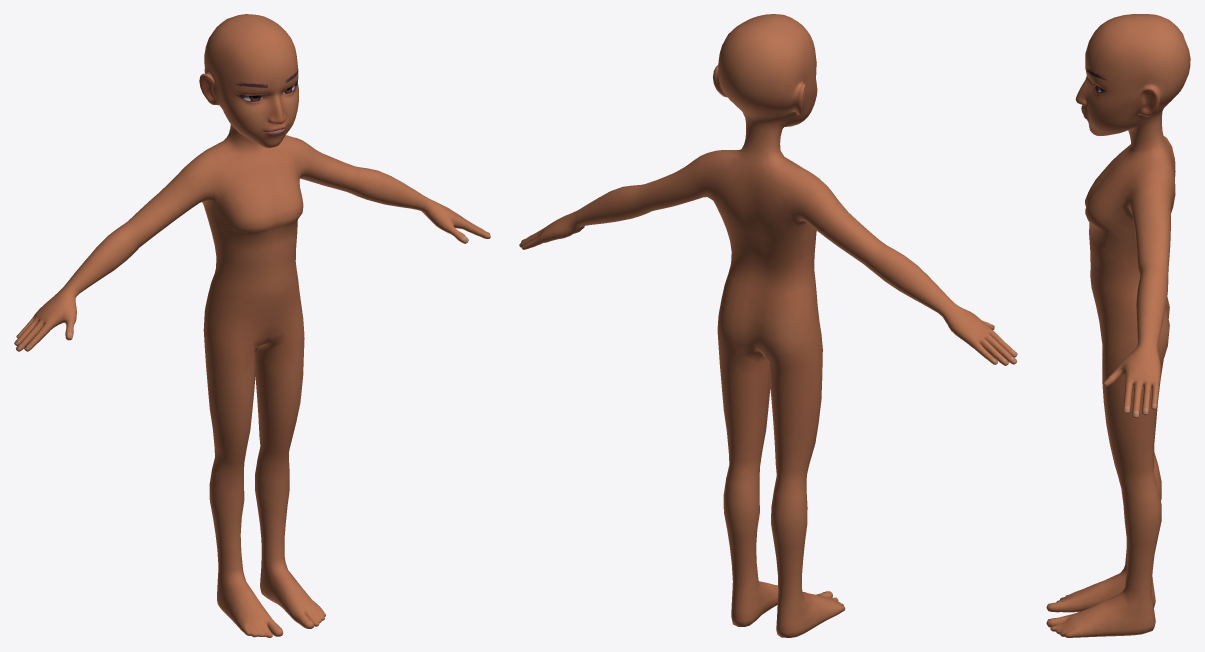
The model's file is frame_0048.glb.
3 views of the same model, side by side, from view 1: azimuth 30°, elevation 25°; view 2: azimuth 150°, elevation 25°; view 3: azimuth 270°, elevation 25° (orthographic). The views are drawn at different scales.
Parts seen in each view (by area): view 1: frame_0048_head_geo; view 2: frame_0048_head_geo; view 3: frame_0048_head_geo.
Boxes of the visible parts, x1,y1,x2,y2 form: frame_0048_head_geo: (14, 14, 490, 637); frame_0048_head_geo: (519, 14, 1017, 637); frame_0048_head_geo: (1046, 14, 1190, 637).
Bounding box in the file's own units: 1.28 × 1.5 × 0.3253.
3 materials, 3 textured.
